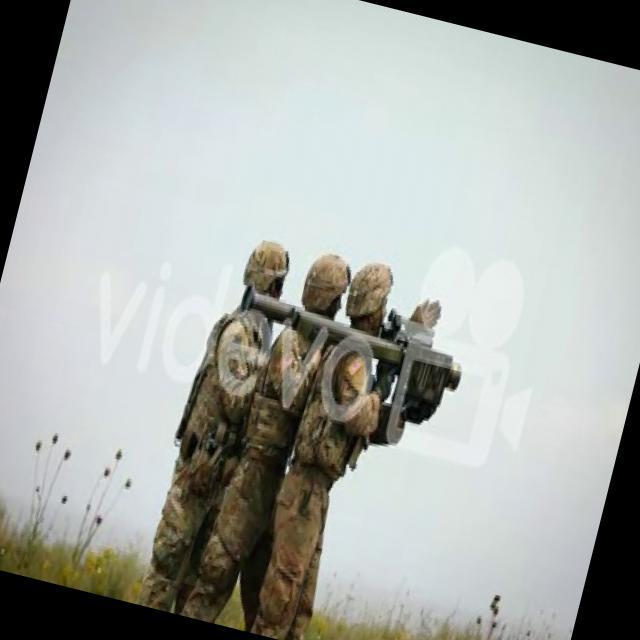rocket: (230, 278, 472, 399)
